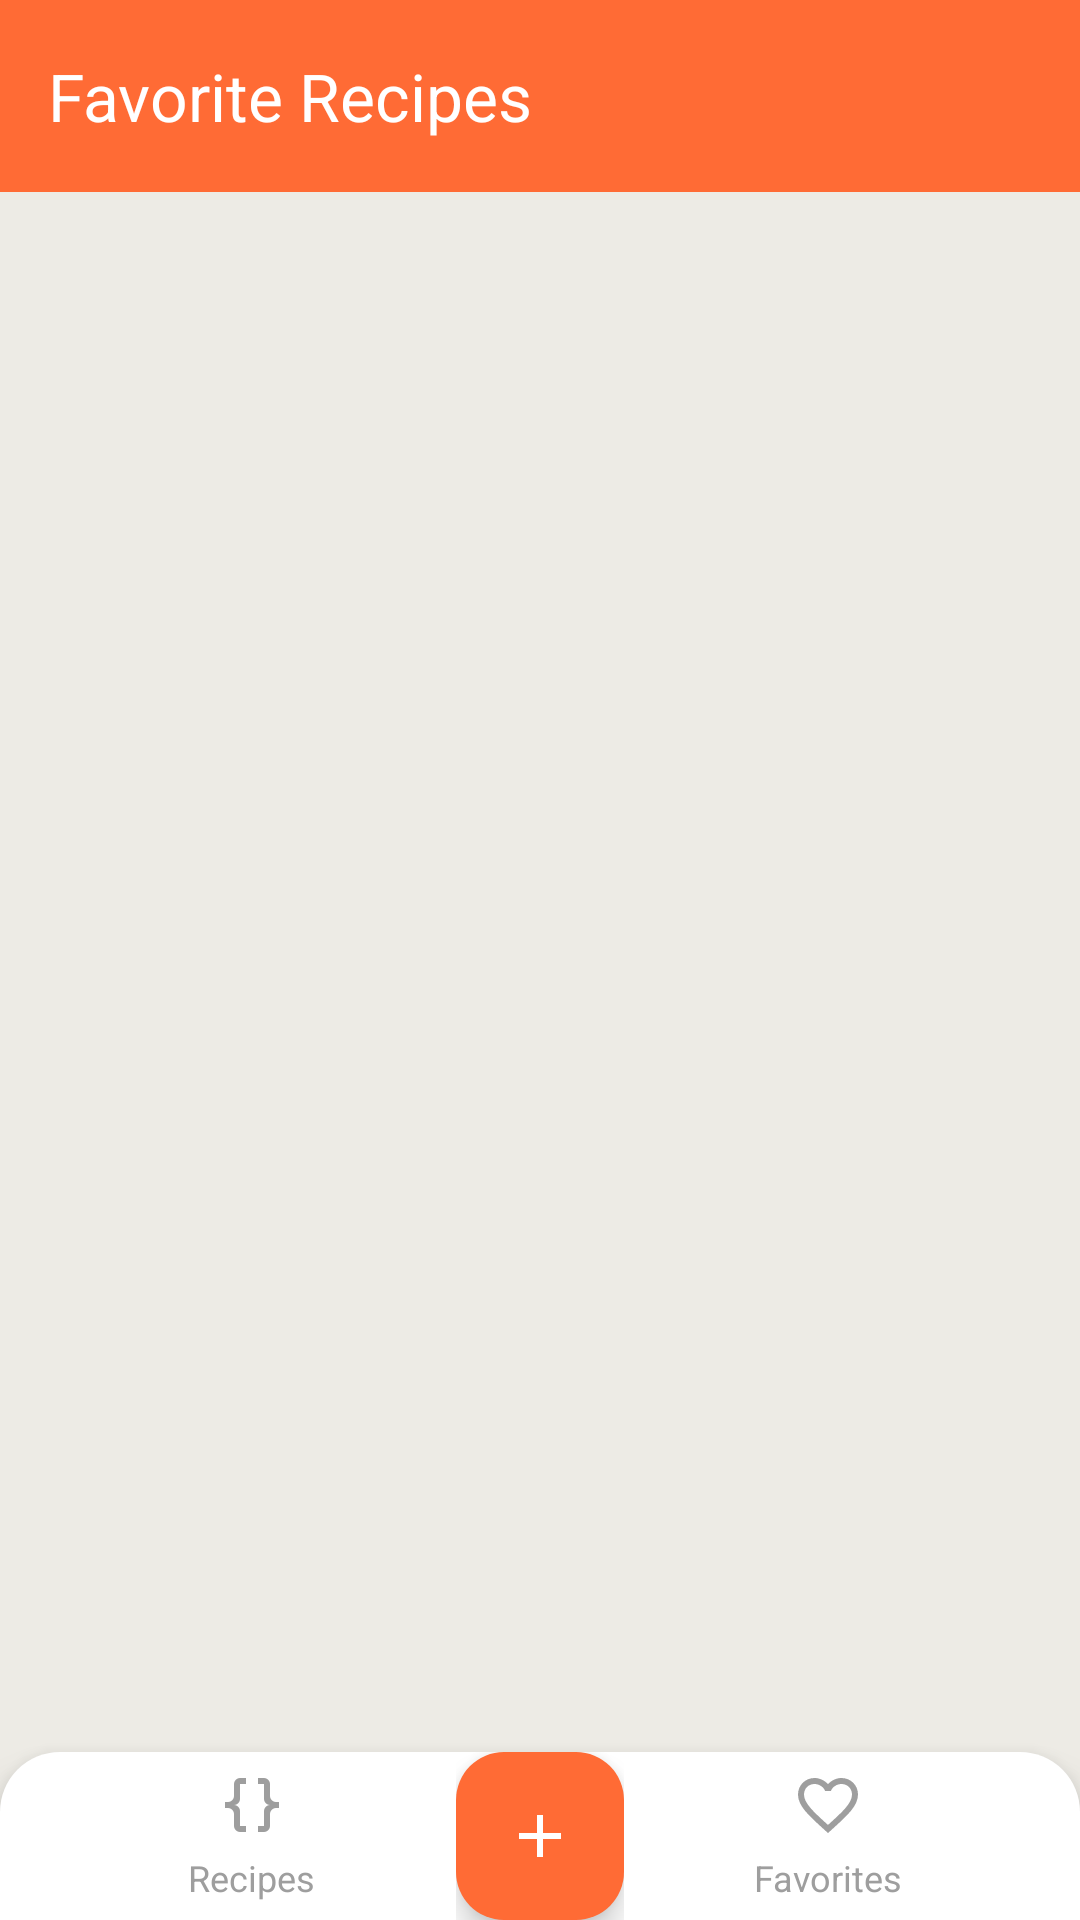

Named icons in this screenshot (1080px x 1920px) and their bounding boxes, BBox(x1, y1, x2, y2):
Add Recipe: BBox(456, 1752, 624, 1920)
heart: BBox(798, 1778, 858, 1833)
